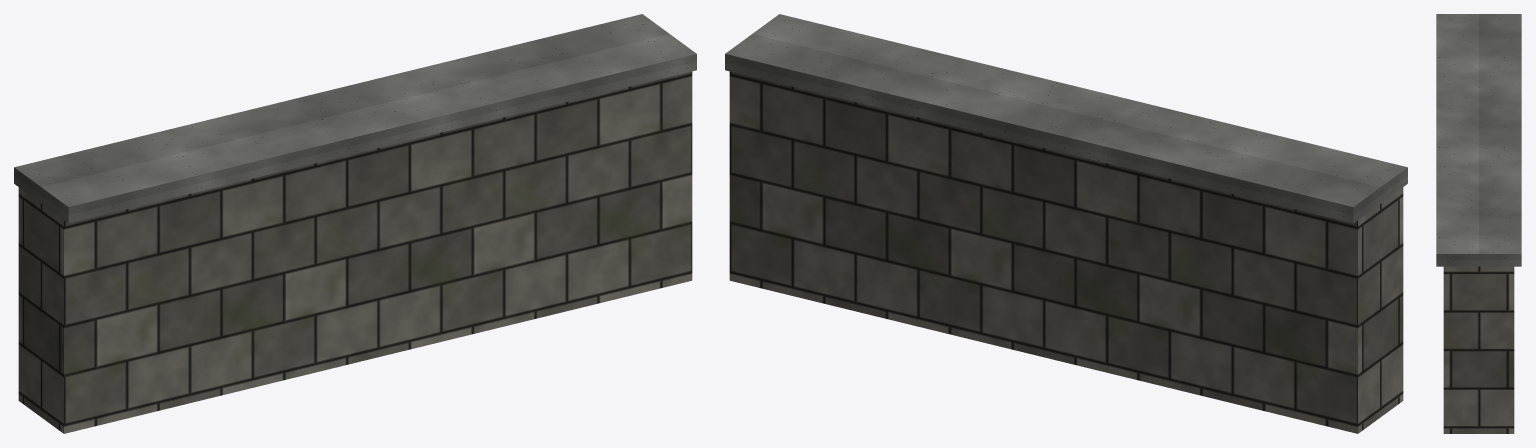
File: stone_wall.glb
3 renders of one model, left to right at view 1: azimuth 30°, elevation 25°; view 2: azimuth 150°, elevation 25°; view 3: azimuth 270°, elevation 25°, orthographic. The views are drawn at different scales.
Parts seen in each view (by area): view 1: stone_wall; view 2: stone_wall; view 3: stone_wall.
Part boxes in pixels (bbox=[...]): stone_wall: bbox=[14, 14, 696, 433]; stone_wall: bbox=[725, 14, 1407, 433]; stone_wall: bbox=[1436, 14, 1521, 433].
Bounding box in the file's own units: 4 × 1.4 × 0.6.
2 materials, 2 textured.
